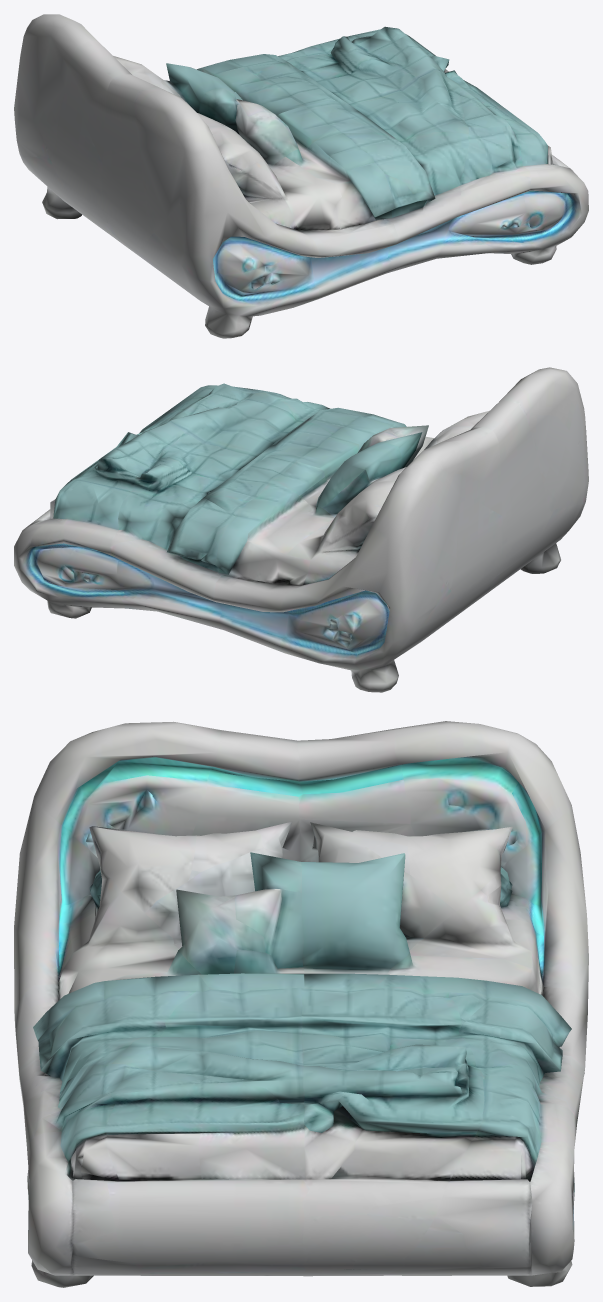
Rendered from m-cama.glb.
3 renders of one model, top to bottom at view 1: azimuth 30°, elevation 25°; view 2: azimuth 150°, elevation 25°; view 3: azimuth 270°, elevation 25°, orthographic. The views are drawn at different scales.
Visible parts, largest first — view 1: tripo_node_396d7406-70ac-4799-bd11-c9b6e00a61f8; view 2: tripo_node_396d7406-70ac-4799-bd11-c9b6e00a61f8; view 3: tripo_node_396d7406-70ac-4799-bd11-c9b6e00a61f8.
Part boxes in pixels (x1,y1,x2,y2): tripo_node_396d7406-70ac-4799-bd11-c9b6e00a61f8: (14,14,588,338); tripo_node_396d7406-70ac-4799-bd11-c9b6e00a61f8: (14,367,588,692); tripo_node_396d7406-70ac-4799-bd11-c9b6e00a61f8: (14,721,588,1287).
Bounding box in the file's own units: 1 × 0.5232 × 0.8519.
1 material, 1 textured.
